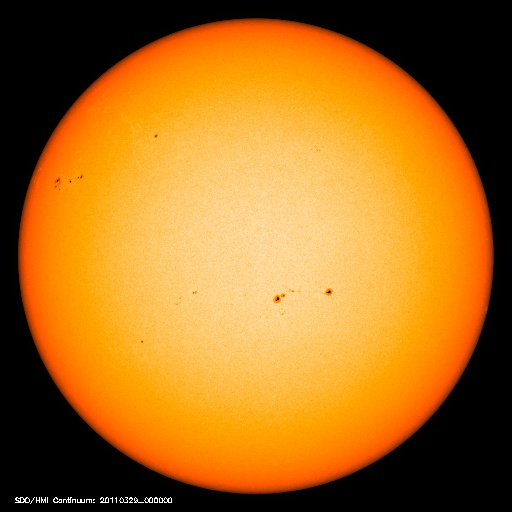sunspot: (262, 277, 339, 313), (167, 282, 203, 315), (47, 169, 90, 194), (126, 330, 158, 355), (142, 125, 170, 150)
